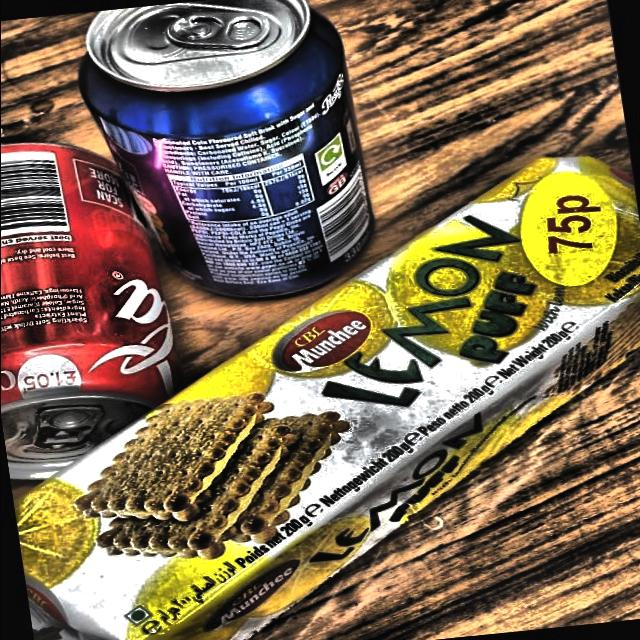coke-can: (0, 140, 169, 476)
lemon puff: (23, 149, 640, 635)
pepsi-can: (76, 11, 368, 296)
